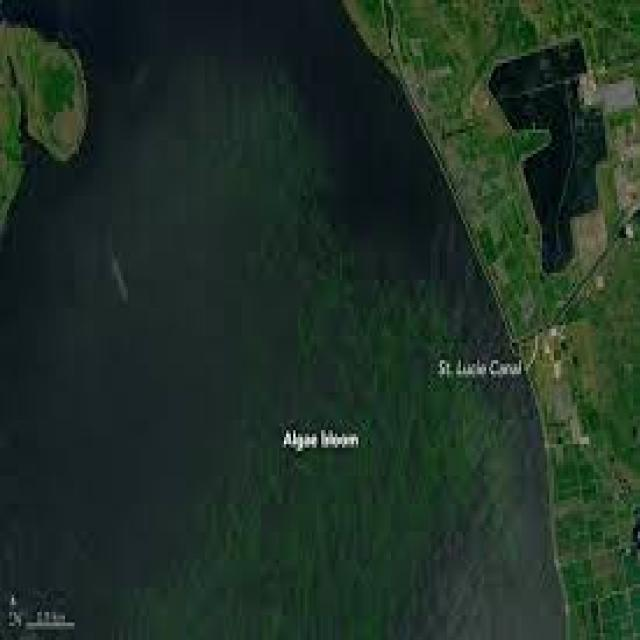algal: (133, 196, 532, 636), (75, 21, 318, 339)
